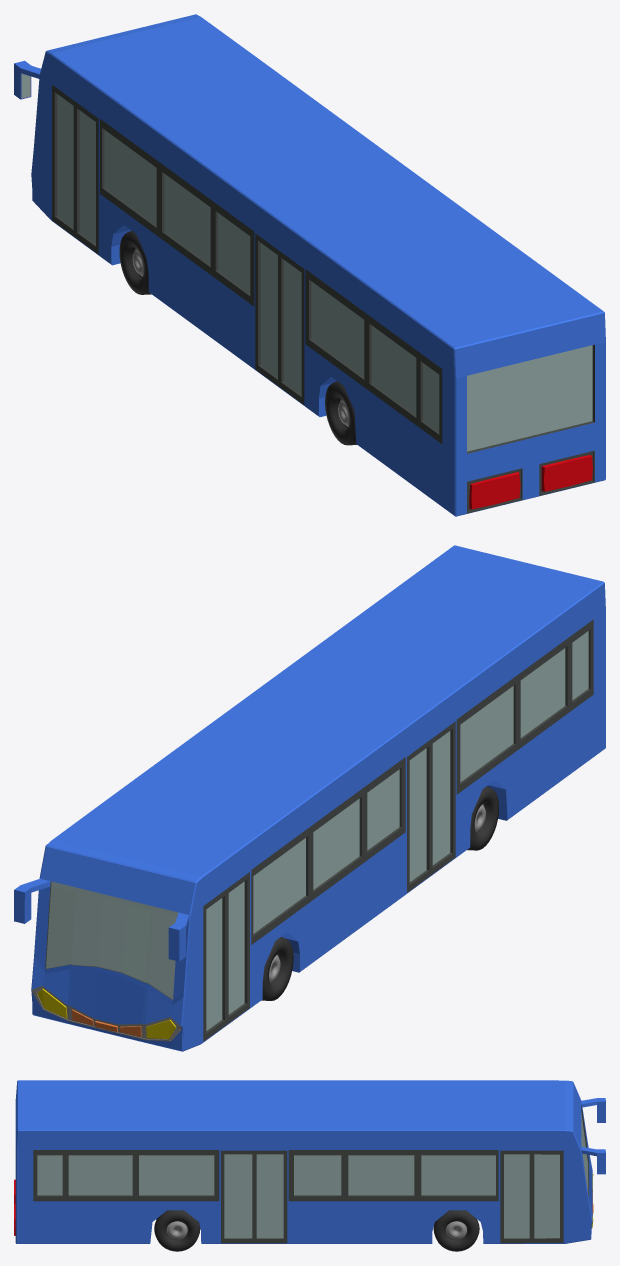
Rendered from BusVersion2 1.fbx.
3 views of the same model, one above another, from view 1: azimuth 30°, elevation 25°; view 2: azimuth 150°, elevation 25°; view 3: azimuth 270°, elevation 25° (orthographic). The views are drawn at different scales.
Parts seen in each view (by area): view 1: Cube.001, Tire.010, Tire.009; view 2: Cube.001, Tire.009, Tire.010; view 3: Cube.001, Tire.007, Tire.006.
Boxes of the visible parts, x1,y1,x2,y2 form: Cube.001: (14, 14, 605, 516); Tire.010: (325, 381, 356, 445); Tire.009: (119, 230, 151, 294); Cube.001: (14, 545, 605, 1051); Tire.009: (261, 936, 293, 1000); Tire.010: (467, 786, 498, 850); Cube.001: (14, 1080, 605, 1243); Tire.007: (154, 1210, 200, 1251); Tire.006: (433, 1210, 479, 1251).
Bounding box in the file's own units: 152 × 162 × 695.
